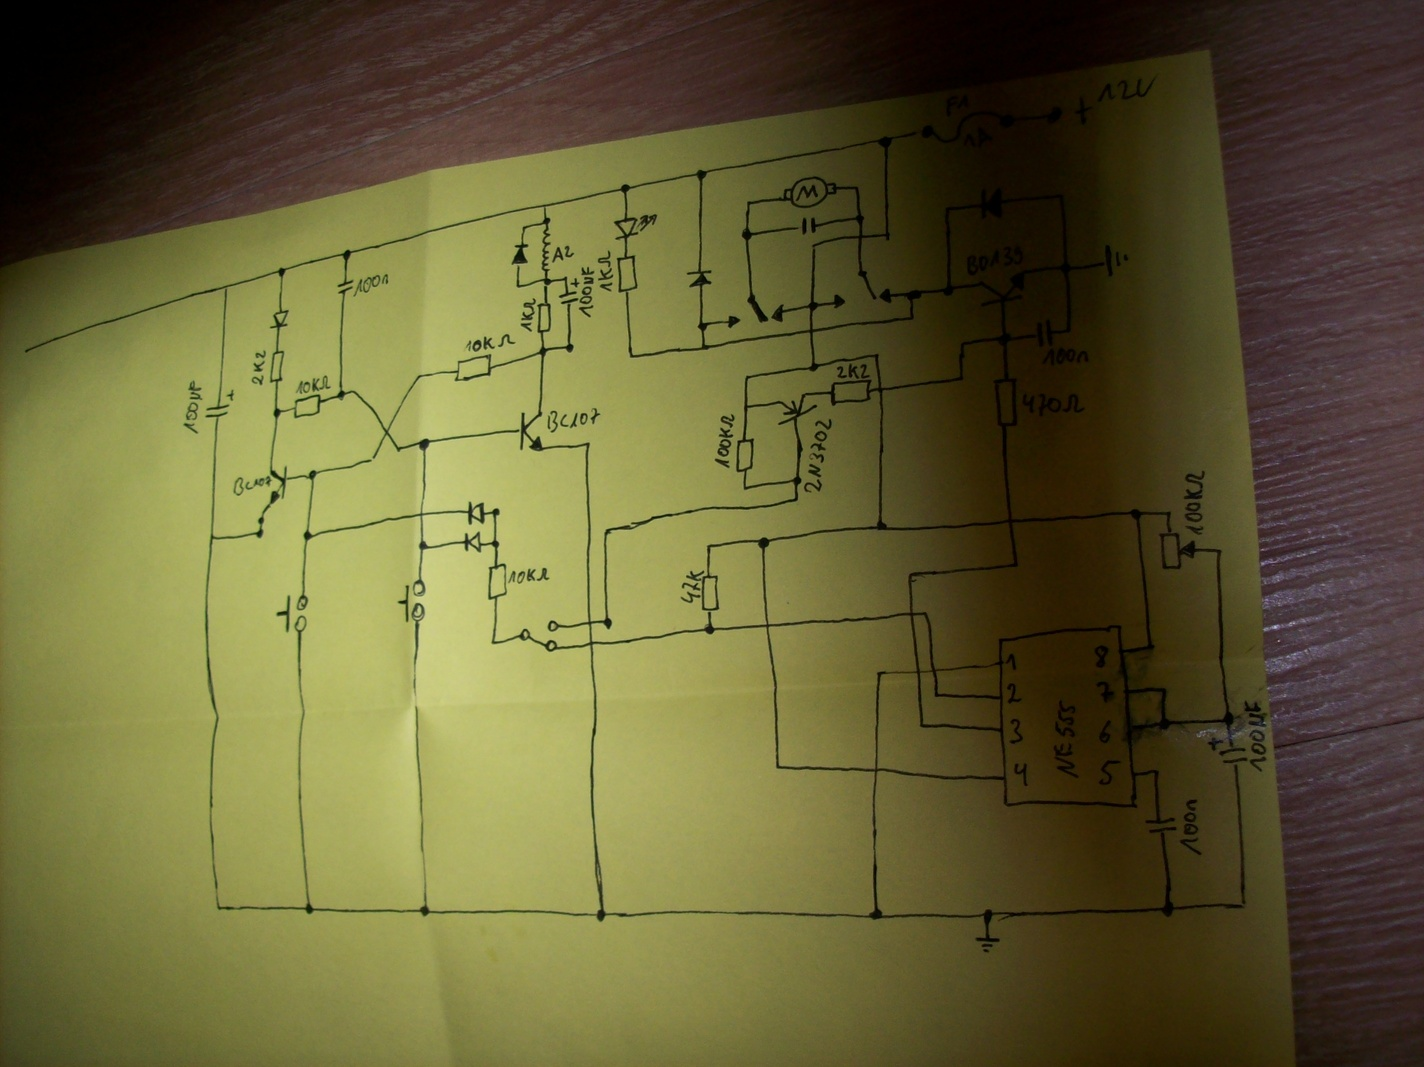capacitor.polarized: (1206, 736, 1249, 769), (205, 389, 236, 421), (558, 278, 580, 306)
capacitor.unpolarized: (1144, 815, 1178, 836), (1034, 318, 1055, 347), (795, 216, 821, 236), (336, 278, 355, 295)
crossover: (1004, 514, 1018, 526), (874, 383, 888, 395), (417, 509, 428, 520), (586, 638, 598, 648), (762, 620, 774, 630), (913, 667, 925, 677), (928, 666, 940, 676), (871, 766, 882, 776), (382, 427, 392, 437), (906, 609, 916, 619), (856, 232, 866, 242), (586, 618, 596, 627), (807, 326, 816, 335)
diode: (977, 185, 1007, 223), (686, 269, 714, 289), (466, 500, 487, 526), (463, 529, 483, 554), (510, 243, 531, 266), (268, 309, 291, 330)
diode.light_emitting: (613, 212, 659, 242)
fuse: (912, 108, 1018, 148)
gnd: (1100, 242, 1132, 279), (974, 934, 1002, 955)
inductor: (540, 228, 552, 273)
integrated_cricuit.ne555: (995, 623, 1138, 811)
junction: (1160, 901, 1176, 919), (996, 332, 1014, 349), (867, 907, 884, 924), (1221, 709, 1237, 727), (876, 134, 894, 149), (1058, 260, 1073, 276), (981, 907, 995, 925), (594, 908, 608, 924), (417, 437, 432, 452), (904, 289, 922, 301), (757, 536, 772, 550), (1129, 507, 1144, 521), (418, 904, 431, 919), (741, 228, 754, 242), (1158, 716, 1171, 732), (417, 539, 430, 553), (875, 519, 888, 532), (702, 623, 717, 635), (341, 248, 353, 262), (303, 902, 315, 916), (307, 468, 319, 482), (602, 616, 614, 630), (942, 284, 955, 297), (695, 168, 708, 180), (1054, 191, 1068, 203), (806, 300, 820, 312), (854, 213, 866, 225), (303, 529, 314, 542), (601, 526, 614, 537), (807, 362, 820, 373), (696, 319, 709, 331), (277, 266, 288, 279), (537, 345, 548, 358), (564, 342, 575, 354), (618, 183, 631, 194), (491, 505, 501, 519), (957, 338, 970, 349), (540, 277, 553, 287), (272, 407, 282, 420), (1158, 685, 1170, 696), (1237, 899, 1248, 910), (1009, 559, 1021, 570), (874, 668, 885, 679), (792, 475, 803, 486), (955, 372, 966, 383), (490, 539, 502, 549), (336, 389, 346, 401), (699, 343, 711, 353), (625, 351, 637, 361), (1151, 767, 1162, 777), (255, 528, 266, 539), (583, 439, 594, 449), (1164, 508, 1174, 519), (882, 230, 892, 241), (931, 692, 943, 700), (1145, 641, 1155, 651), (773, 762, 783, 772), (872, 350, 882, 360), (906, 312, 916, 322), (916, 721, 928, 730), (944, 204, 953, 215), (541, 216, 552, 225), (214, 904, 224, 913), (208, 532, 217, 542), (704, 542, 714, 551), (906, 570, 916, 579), (742, 373, 752, 382), (791, 495, 801, 504), (514, 281, 523, 291), (1063, 324, 1073, 333), (415, 372, 424, 381), (921, 609, 930, 618), (745, 200, 754, 208), (369, 454, 376, 464), (394, 446, 404, 454), (810, 241, 818, 251), (350, 388, 359, 396), (490, 638, 497, 647), (742, 402, 751, 410), (741, 484, 750, 492), (520, 224, 529, 232), (561, 273, 570, 281), (222, 282, 229, 293), (853, 184, 860, 192), (541, 203, 549, 210)
motor: (782, 174, 839, 208)
resistor: (992, 375, 1020, 429), (454, 353, 493, 383), (829, 379, 871, 406), (615, 253, 639, 296), (487, 562, 509, 602), (735, 436, 755, 474), (701, 574, 720, 613), (294, 393, 322, 419), (269, 347, 285, 384), (536, 301, 552, 334)
resistor.adjustable: (1157, 530, 1222, 570)
switch: (832, 269, 893, 310), (727, 293, 785, 330), (395, 577, 428, 624), (518, 619, 561, 653), (274, 593, 310, 634)
terminal: (1043, 104, 1065, 126), (21, 344, 34, 356)
text: (1074, 74, 1156, 126), (1052, 699, 1080, 781), (803, 418, 832, 494), (1242, 699, 1268, 774), (1020, 391, 1087, 419), (965, 245, 1024, 276), (1182, 468, 1208, 537), (545, 405, 602, 434), (1178, 797, 1204, 859), (713, 412, 736, 471), (182, 378, 205, 435), (463, 332, 516, 353), (1041, 346, 1090, 369), (508, 566, 552, 586), (961, 126, 996, 151), (578, 266, 595, 318), (353, 273, 390, 297), (232, 475, 272, 497), (679, 569, 704, 604), (596, 250, 615, 294), (294, 374, 332, 395), (1097, 759, 1121, 787), (250, 349, 267, 386), (943, 93, 968, 118), (836, 363, 871, 380), (520, 297, 536, 333), (550, 244, 575, 265), (1011, 761, 1029, 788), (1093, 680, 1115, 703), (1007, 717, 1024, 744), (1093, 643, 1110, 669), (1097, 718, 1113, 744), (1005, 681, 1022, 705), (1005, 652, 1020, 671)
transistor: (978, 272, 1027, 308), (257, 465, 288, 514), (778, 392, 818, 426), (516, 410, 545, 454)
